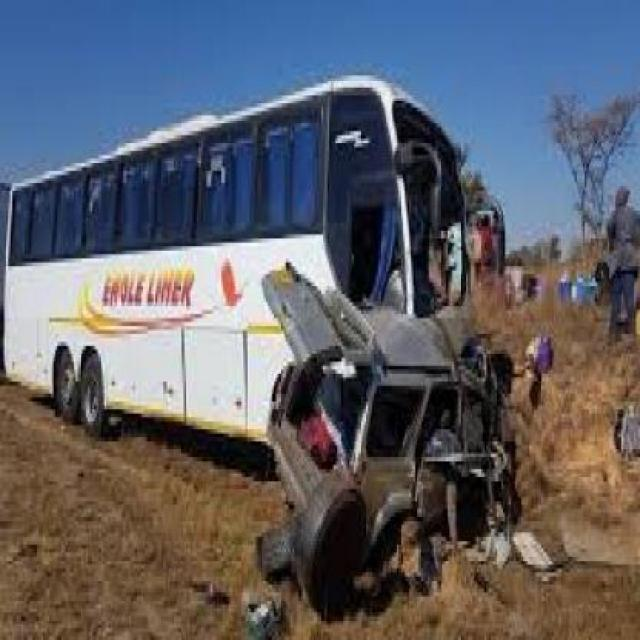accident: (151, 86, 571, 623)
